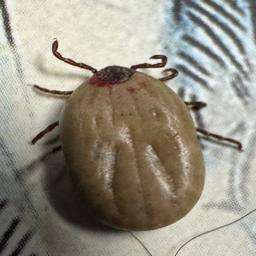Rhipicephalus sanguineus: (33, 39, 240, 232)
